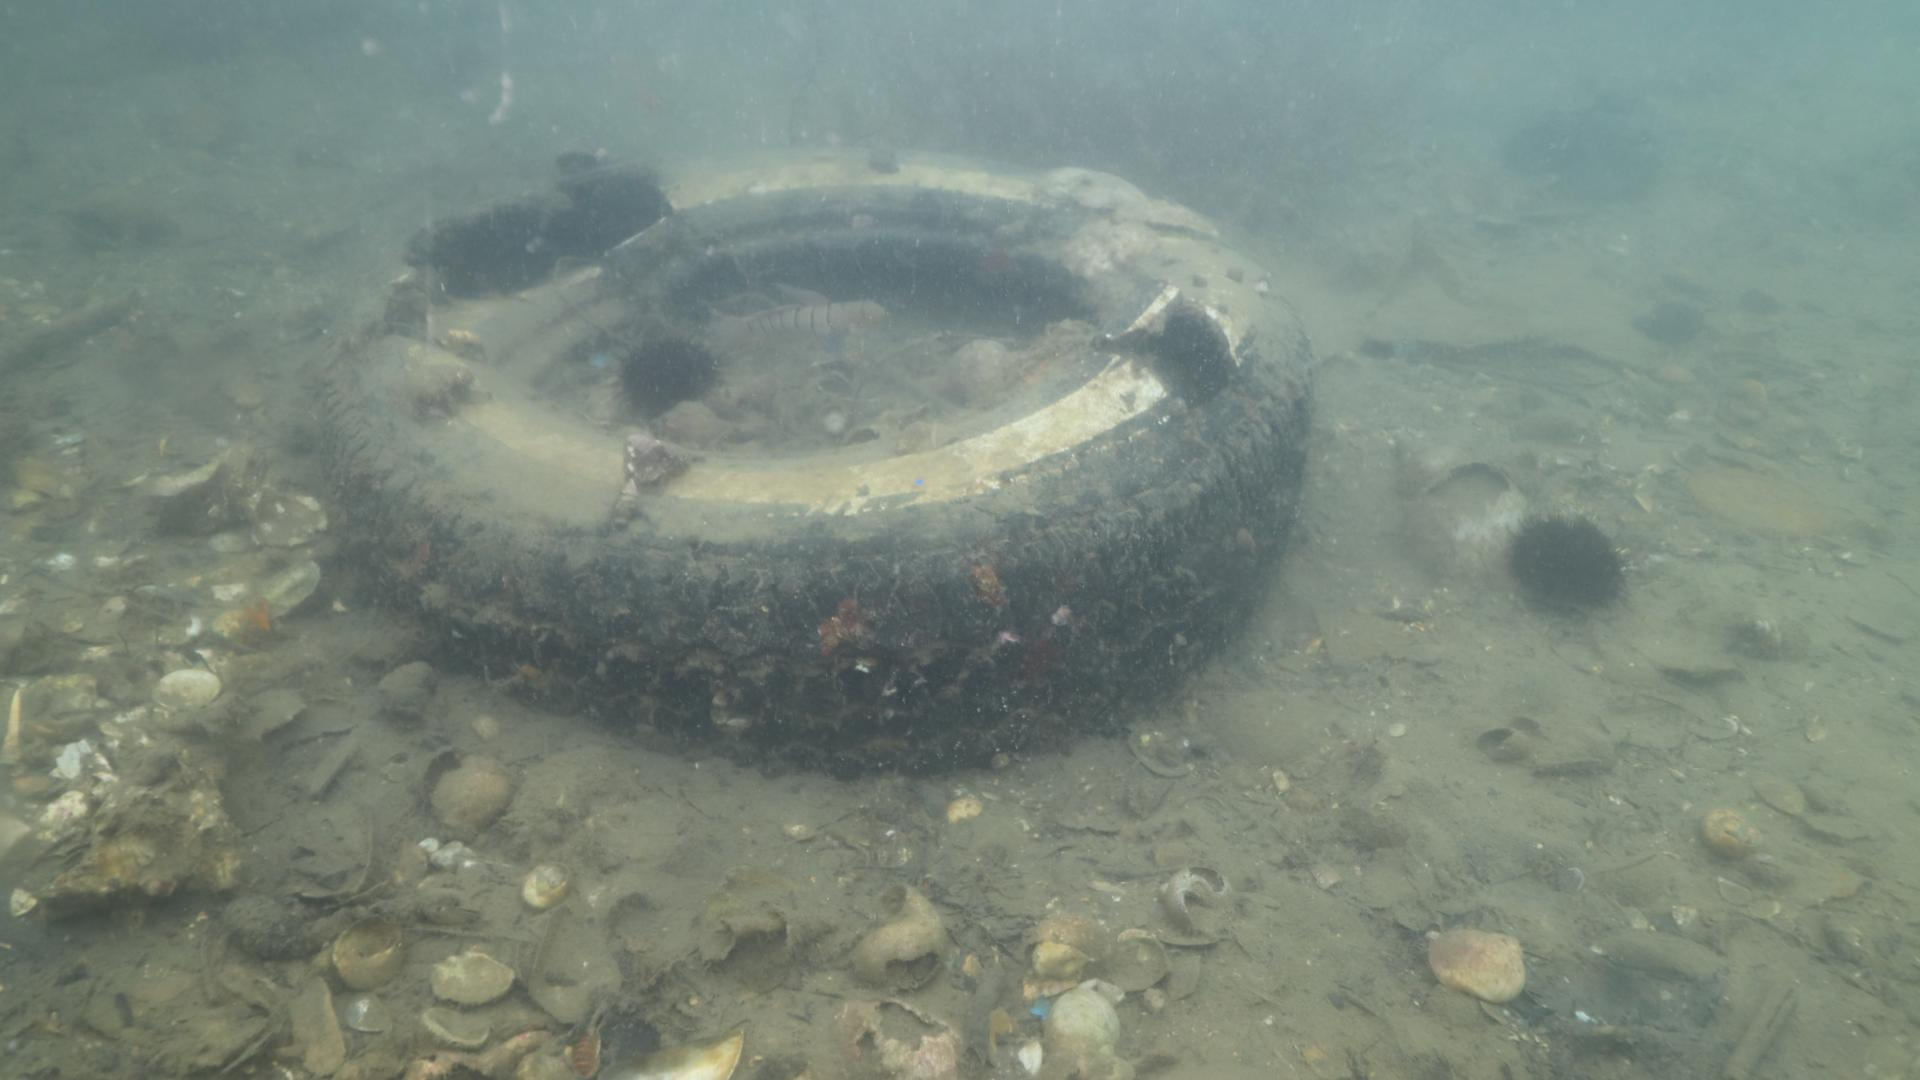tire: (315, 146, 1317, 781)
